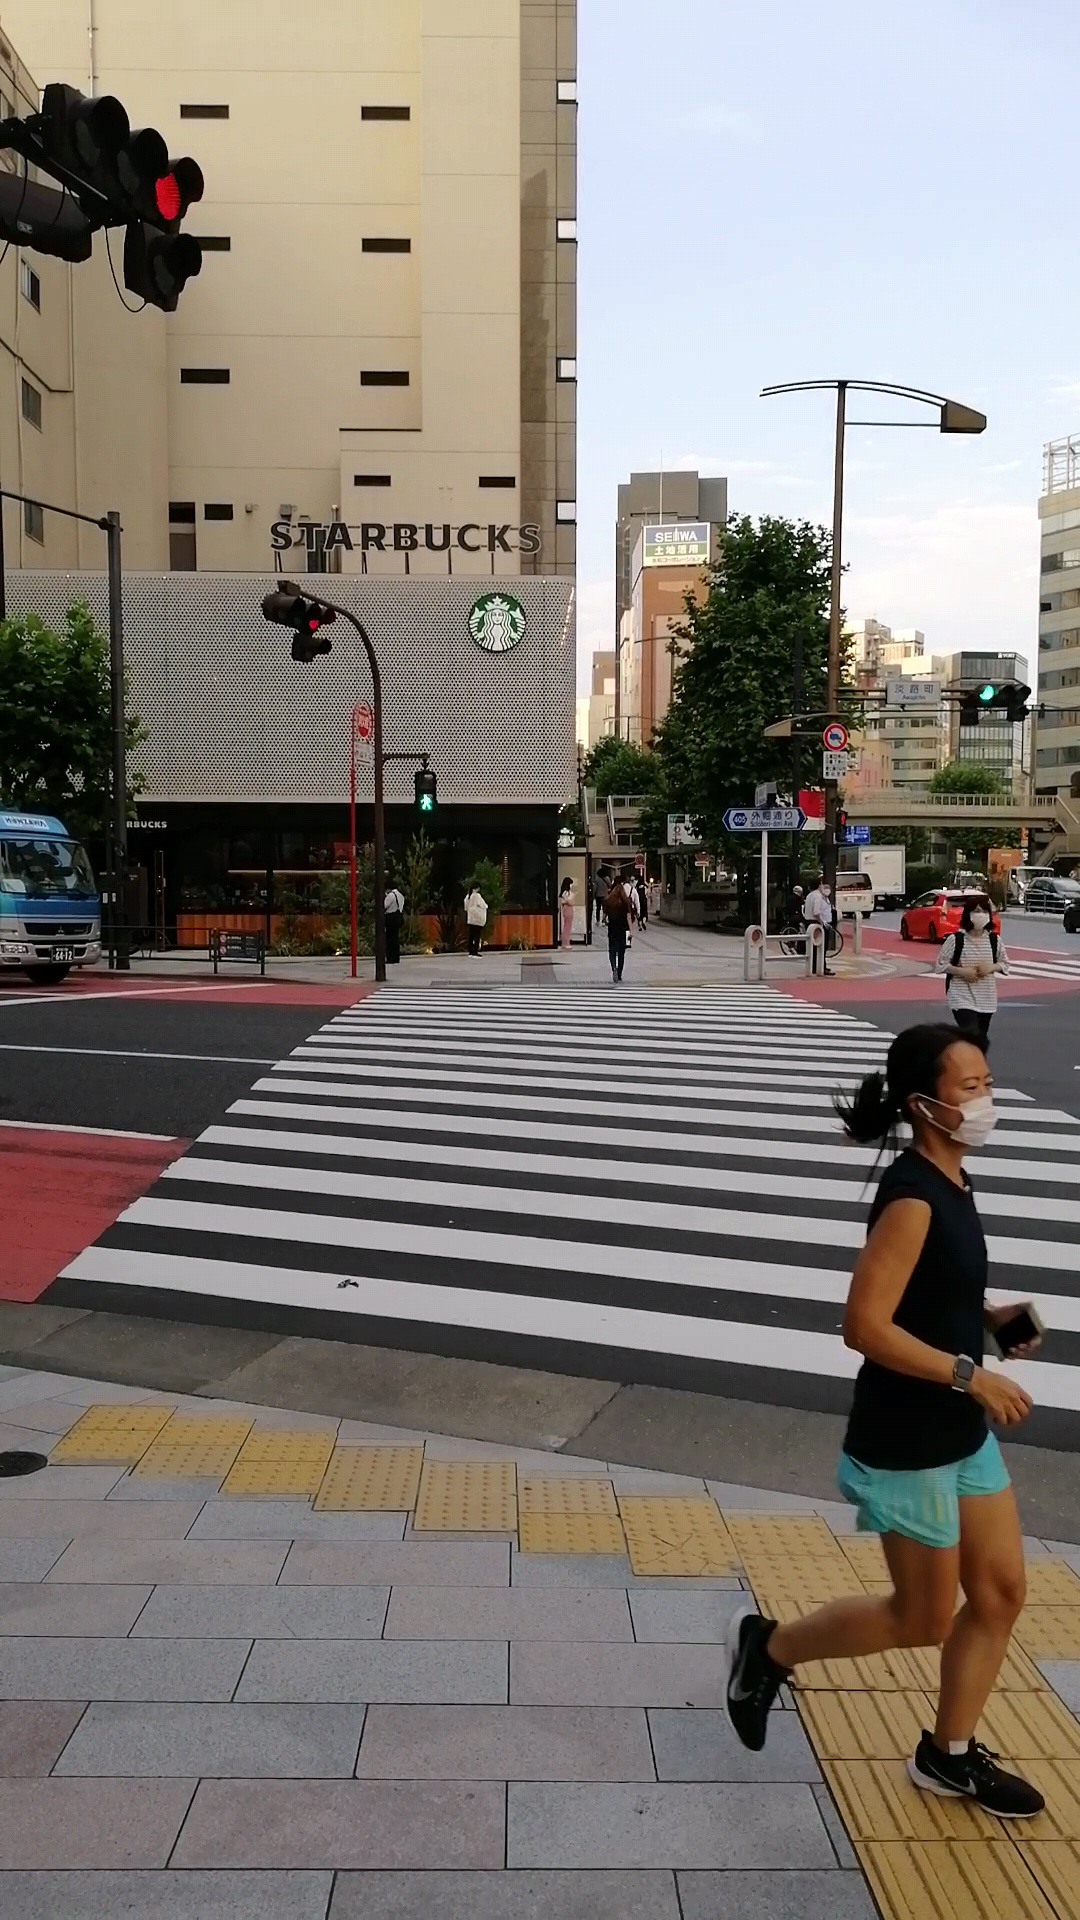green: (413, 770, 436, 816)
